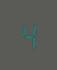four: (19, 20, 36, 50)
